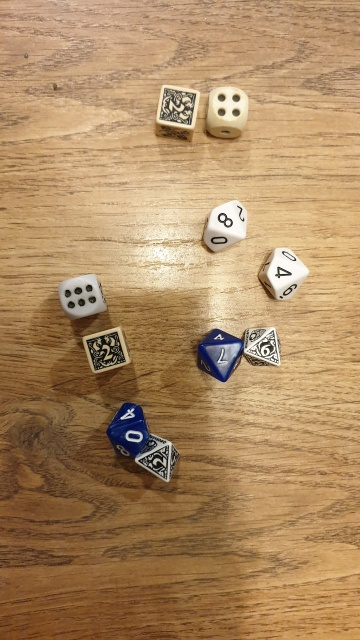d10-10: (102, 396, 150, 461)
d10-4: (255, 240, 311, 311)
d10-7: (191, 326, 245, 384)
d10-8: (197, 192, 252, 257)
d6-4: (204, 80, 254, 142)
d6-6: (55, 269, 111, 320)
d6p-2: (77, 324, 140, 380), (155, 80, 199, 144)
d8p-2: (133, 429, 187, 489)
d8p-6: (241, 323, 287, 374)
